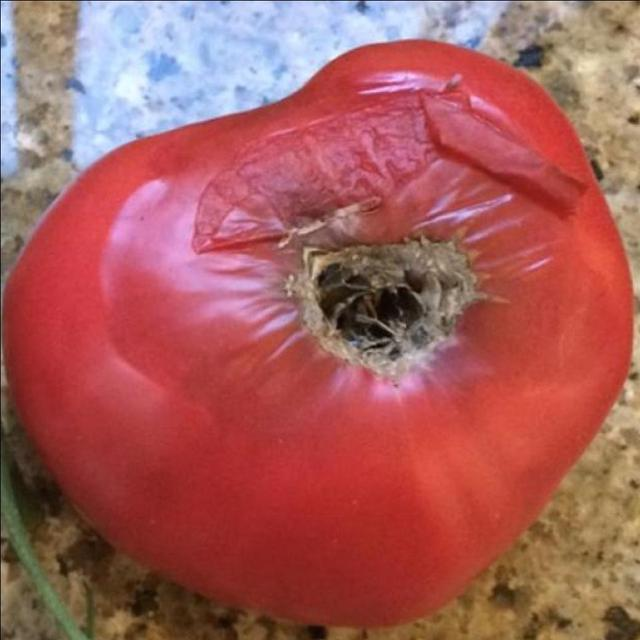Blossom End Rot Fruit: (182, 126, 339, 261)
